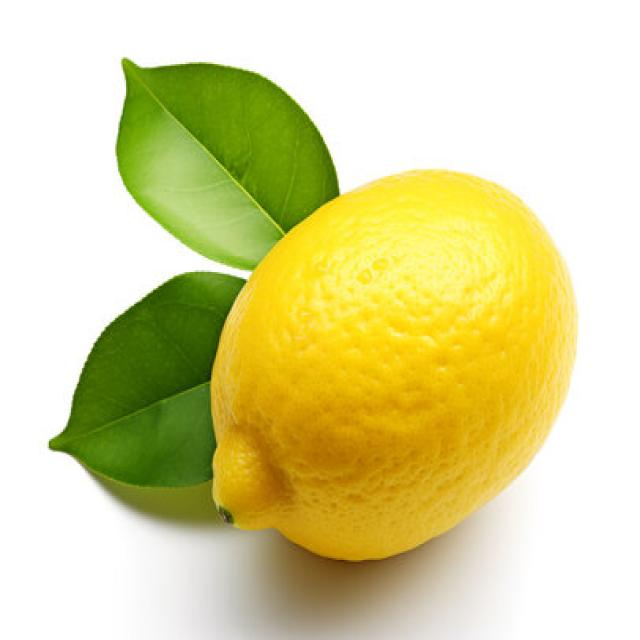Lemon: (208, 165, 579, 562)
